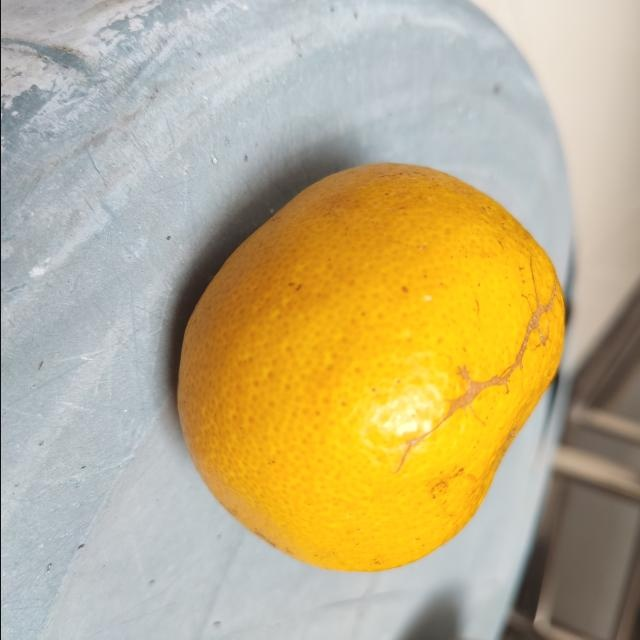agrume: (171, 161, 565, 578)
